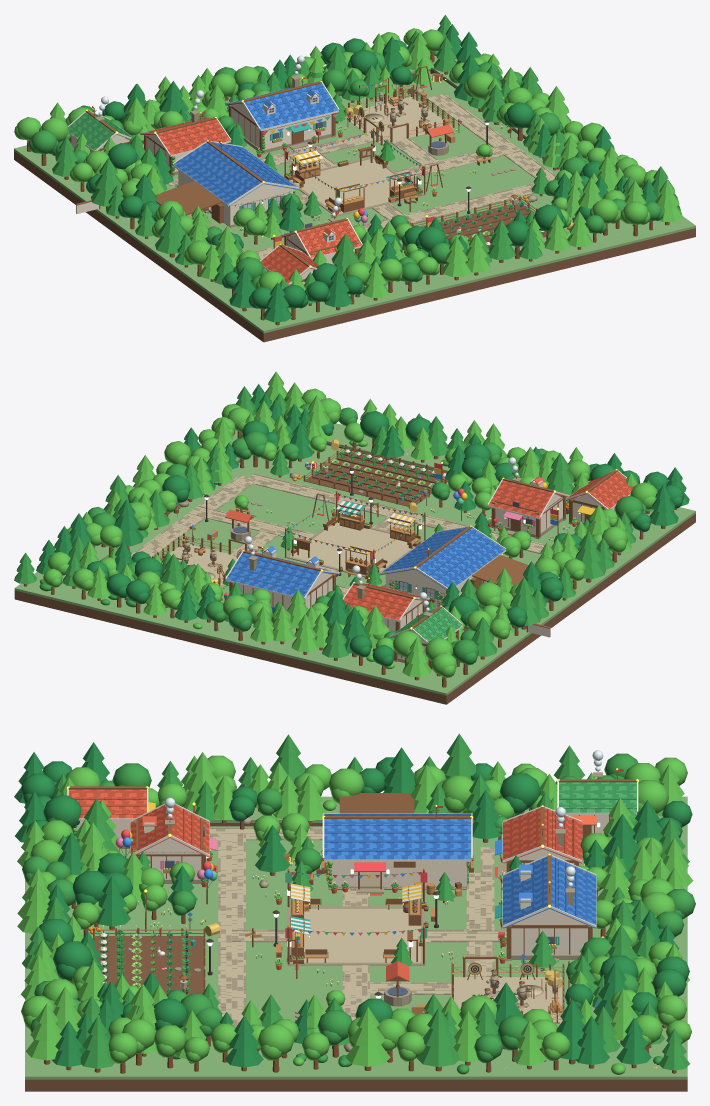
Rendered from ENV_Village_iroiro.fbx.
The picture shows the model from 3 angles, top to bottom: view 1: azimuth 30°, elevation 25°; view 2: azimuth 150°, elevation 25°; view 3: azimuth 270°, elevation 25°; orthographic projection. The views are drawn at different scales.
Parts seen in each view (by area): view 1: FOREST_Rim, GROUND_Rim, EDGE_Forest, Ground_40x40, ROAD_Pattern, TRE_EdgeWoods, EDGE_Rim, DECO_Canteen_Shingles, Plaza, PRP_PlazaLife, PRP_TrainingGround, DECO_ChiefHouse_Shingles (+23 smaller); view 2: FOREST_Rim, GROUND_Rim, EDGE_Forest, Ground_40x40, ROAD_Pattern, EDGE_Rim, PRP_Field, TRE_EdgeWoods, Plaza, DECO_Canteen_Shingles, PRP_PlazaLife, TRE_Forest_Deep (+23 smaller); view 3: FOREST_Rim, EDGE_Forest, GROUND_Rim, Ground_40x40, ROAD_Pattern, EDGE_Rim, TRE_EdgeWoods, Plaza, DECO_Canteen_Shingles, PRP_Field, PRP_PlazaLife, DECO_ChiefHouse_Shingles (+27 smaller).
Part boxes in pixels (<box>): FOREST_Rim: <box>14,15,682,325</box>; GROUND_Rim: <box>14,55,695,342</box>; EDGE_Forest: <box>103,31,626,274</box>; Ground_40x40: <box>120,73,624,267</box>; ROAD_Pattern: <box>168,93,556,259</box>; TRE_EdgeWoods: <box>122,64,417,260</box>; EDGE_Rim: <box>110,46,571,272</box>; DECO_Canteen_Shingles: <box>173,142,296,204</box>; Plaza: <box>289,157,425,216</box>; PRP_PlazaLife: <box>284,127,425,215</box>; PRP_TrainingGround: <box>346,83,452,144</box>; DECO_ChiefHouse_Shingles: <box>244,83,338,129</box>; FOREST_Rim: <box>14,371,689,687</box>; GROUND_Rim: <box>14,423,695,704</box>; EDGE_Forest: <box>79,395,574,651</box>; Ground_40x40: <box>129,445,576,654</box>; ROAD_Pattern: <box>131,473,574,596</box>; EDGE_Rim: <box>100,422,618,640</box>; PRP_Field: <box>305,449,448,506</box>; TRE_EdgeWoods: <box>160,462,568,639</box>; Plaza: <box>284,521,424,577</box>; DECO_Canteen_Shingles: <box>382,527,505,587</box>; PRP_PlazaLife: <box>285,490,425,577</box>; TRE_Forest_Deep: <box>231,393,333,477</box>; FOREST_Rim: <box>14,733,695,1074</box>; EDGE_Forest: <box>72,773,639,1049</box>; GROUND_Rim: <box>25,796,687,1091</box>; Ground_40x40: <box>80,826,623,1053</box>; ROAD_Pattern: <box>210,827,499,1027</box>; EDGE_Rim: <box>72,764,638,1030</box>; TRE_EdgeWoods: <box>85,792,628,1007</box>; Plaza: <box>287,906,425,965</box>; DECO_Canteen_Shingles: <box>324,814,471,859</box>; PRP_Field: <box>94,925,204,995</box>; PRP_PlazaLife: <box>285,868,428,964</box>; DECO_ChiefHouse_Shingles: <box>503,856,596,925</box>.
Bounding box in the file's own units: 50.86 × 8.57 × 49.4.
